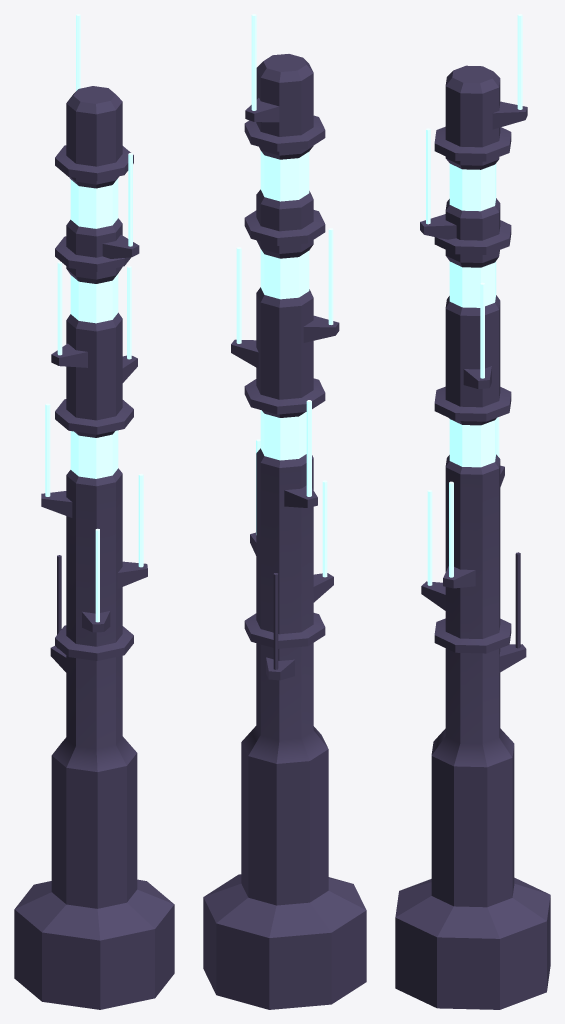
Rendered from Antena_02.fbx.
The picture shows the model from 3 angles, left to right: view 1: azimuth 30°, elevation 25°; view 2: azimuth 150°, elevation 25°; view 3: azimuth 270°, elevation 25°; orthographic projection. The views are drawn at different scales.
Parts seen in each view (by area): view 1: Antena_02; view 2: Antena_02; view 3: Antena_02.
Boxes of the visible parts, x1,y1,x2,y2 form: Antena_02: (14,14,174,1009); Antena_02: (203,14,366,1009); Antena_02: (395,14,550,1009).
Bounding box in the file's own units: 949 × 6515 × 949.
